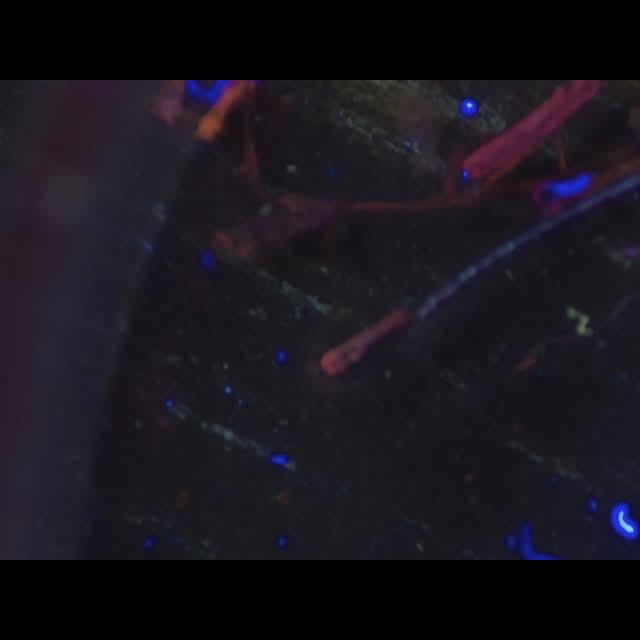Fibre: (566, 304, 594, 338)
